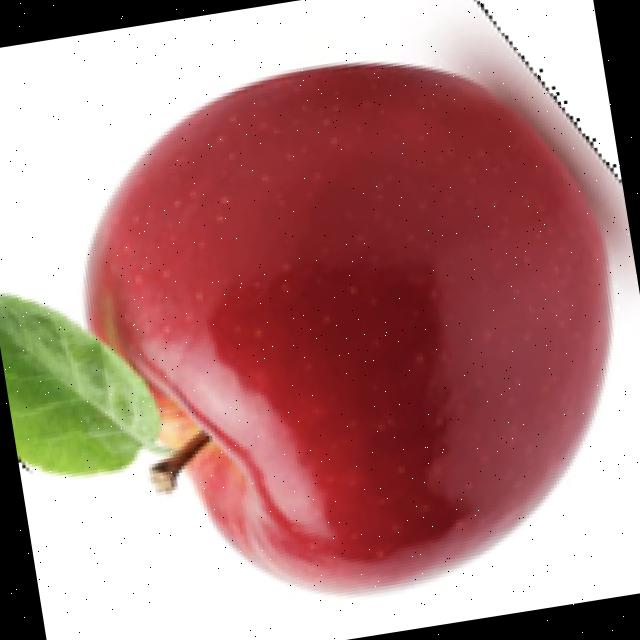apple: (0, 3, 637, 602)
